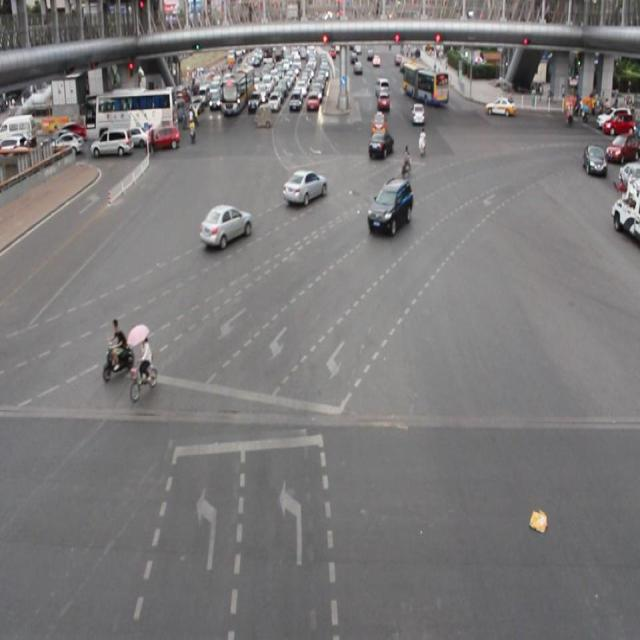car: (365, 176, 414, 238), (198, 202, 253, 250), (281, 167, 328, 210), (367, 131, 393, 159)
